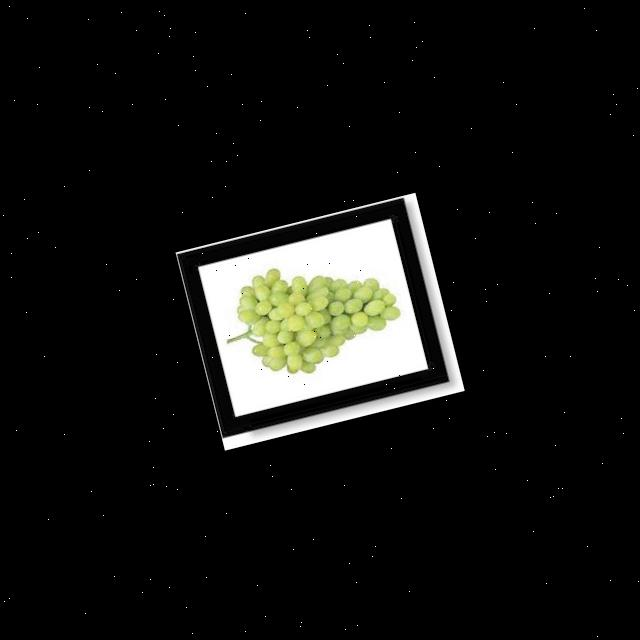grape: (210, 239, 408, 389)
